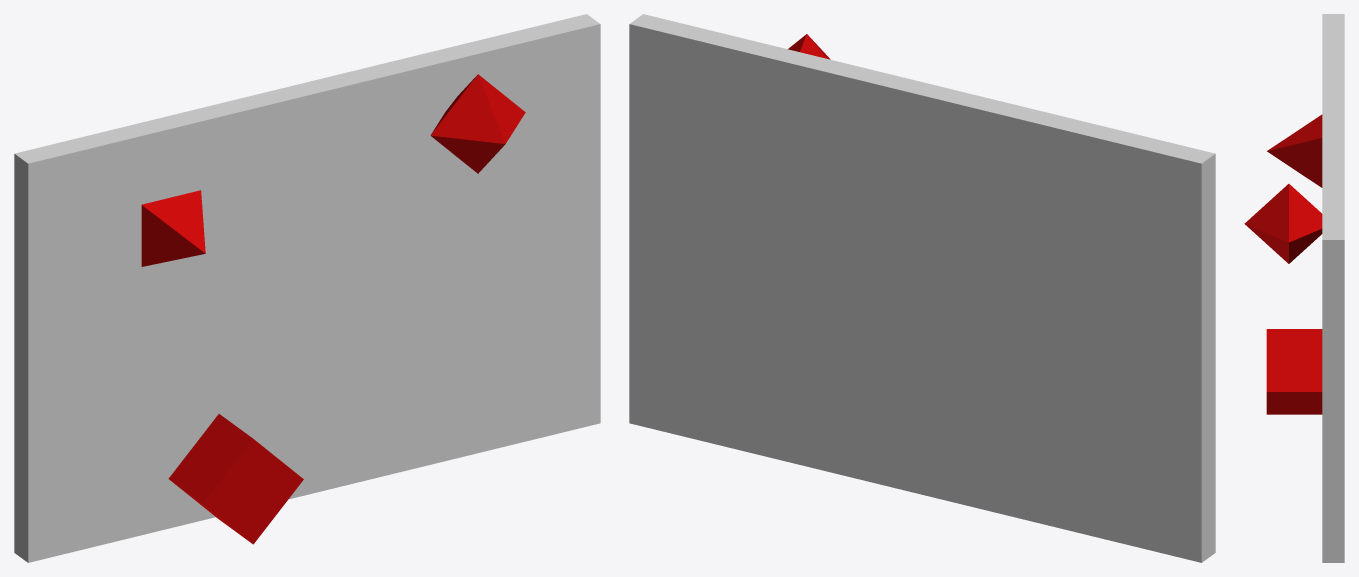
Rendered from env.dae.
3 renders of one model, left to right at view 1: azimuth 30°, elevation 25°; view 2: azimuth 150°, elevation 25°; view 3: azimuth 270°, elevation 25°, orthographic. The views are drawn at different scales.
Parts seen in each view (by area): view 1: Table, BoxObstacle, SphereObstacle, PyramidObstacle; view 2: Table; view 3: Table, BoxObstacle, SphereObstacle, PyramidObstacle.
Boxes of the visible parts, left/top/right/bottom form: Table: left=14, top=14, right=600, bottom=562; BoxObstacle: left=168, top=414, right=303, bottom=544; SphereObstacle: left=430, top=74, right=525, bottom=173; PyramidObstacle: left=141, top=190, right=205, bottom=266; Table: left=629, top=14, right=1215, bottom=562; Table: left=1322, top=14, right=1344, bottom=562; BoxObstacle: left=1266, top=329, right=1322, bottom=414; SphereObstacle: left=1244, top=184, right=1322, bottom=263; PyramidObstacle: left=1267, top=114, right=1322, bottom=187.
Bounding box in the file's own units: 1.2 × 0.8061 × 0.225.
